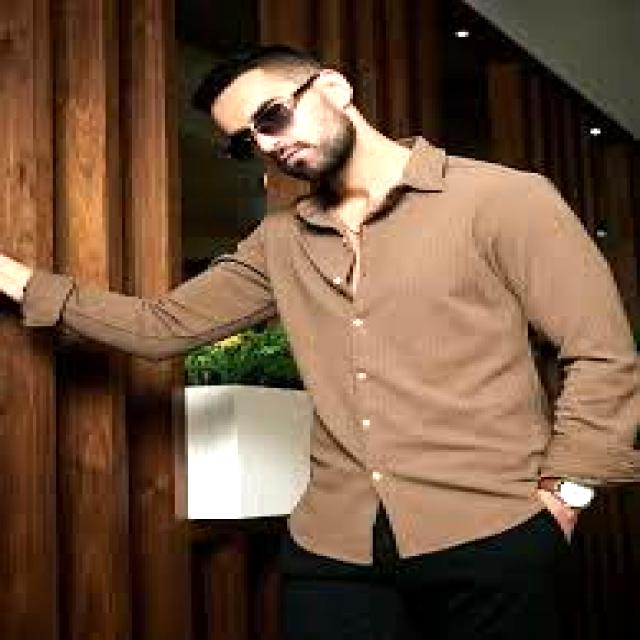face: (212, 70, 356, 180)
lower-wear: (281, 510, 567, 639)
top-wear: (26, 142, 640, 555)
